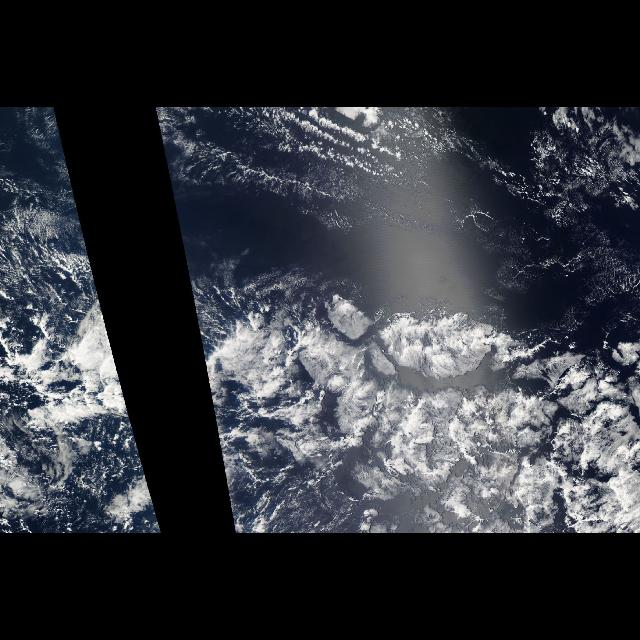Fish: (193, 301, 635, 489), (6, 301, 150, 489)
Flower: (228, 342, 636, 528)
Sugar: (164, 107, 636, 290), (8, 198, 104, 314)
